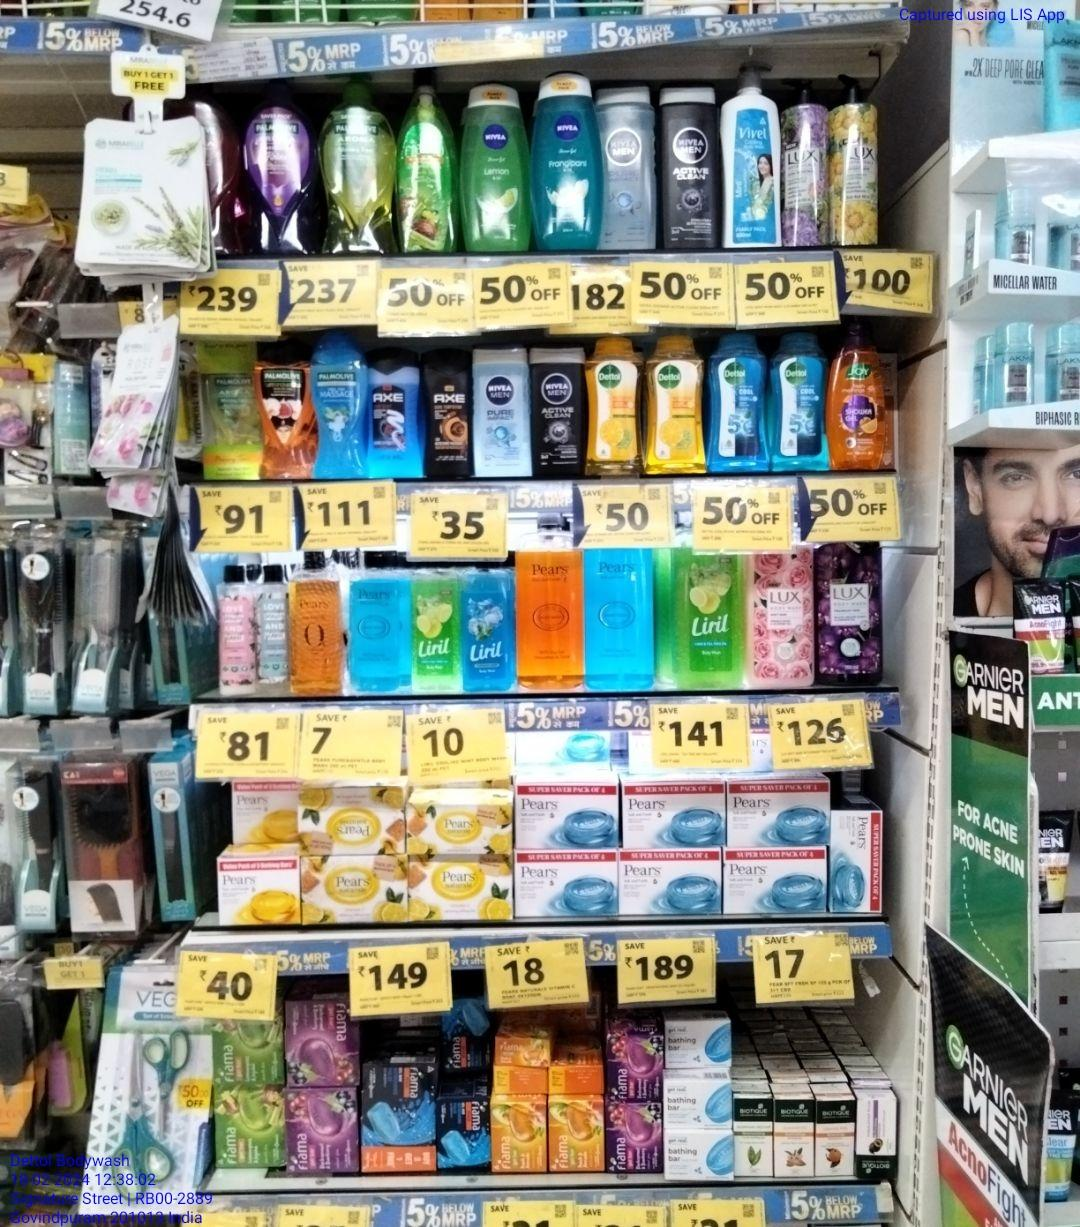Dettol_Bodywash_Cool: (712, 333, 769, 473), (774, 330, 829, 470)
Dettol_Bodywash_Refresh: (585, 339, 645, 480), (648, 335, 706, 476)
Joy_Shower_Gel_Mandarin_and_Lemongrass_250ML: (833, 328, 886, 466)
Liril_Cooling_Mint_Body_Wash_250ML: (463, 560, 511, 692), (413, 564, 461, 688)
Nivea_Shower_Gel_Frangipani_and_Oil_250ML: (533, 76, 601, 254)
Nivea_Shower_Gel_Lemon_and_Oil_250ML: (460, 82, 527, 254)
